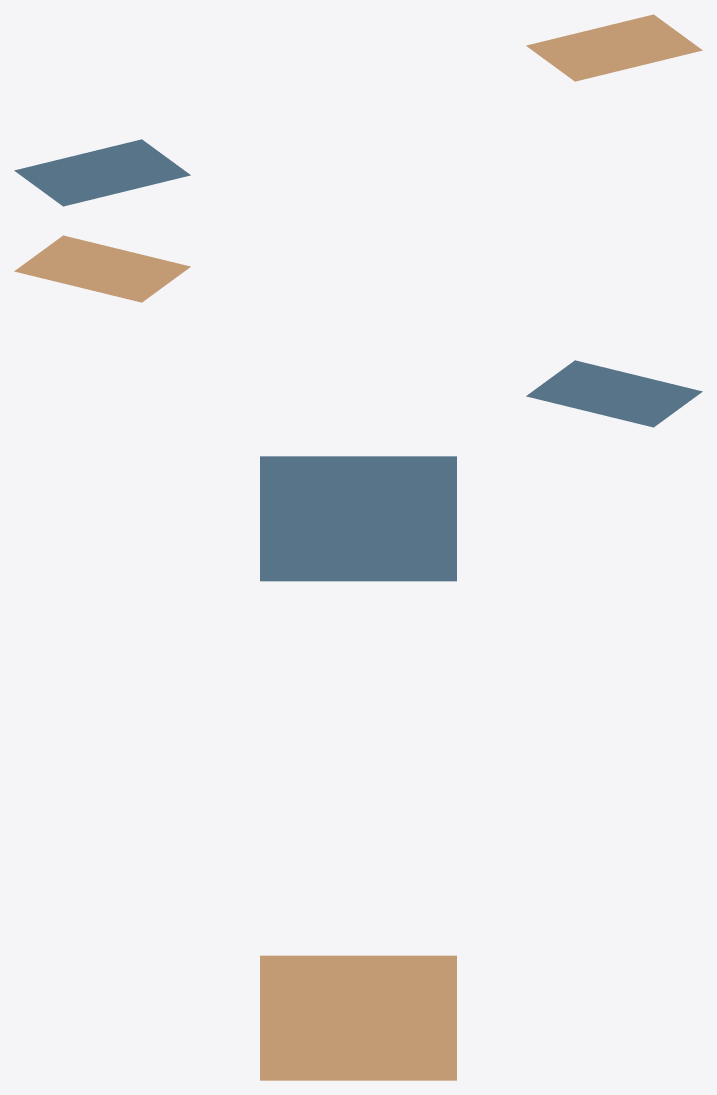
Rendered from visibility.glb.
The picture shows the model from 3 angles, top to bottom: view 1: azimuth 30°, elevation 25°; view 2: azimuth 150°, elevation 25°; view 3: azimuth 270°, elevation 25°; orthographic projection. The views are drawn at different scales.
Visible parts, largest first — view 1: IngeTrazo; view 2: IngeTrazo; view 3: IngeTrazo.
Boxes of the visible parts, left/top/right/bottom form: IngeTrazo: left=14, top=14, right=702, bottom=206; IngeTrazo: left=14, top=235, right=702, bottom=427; IngeTrazo: left=260, top=456, right=456, bottom=1080.
Size of the model in its own units: 15 by 0 by 2.
